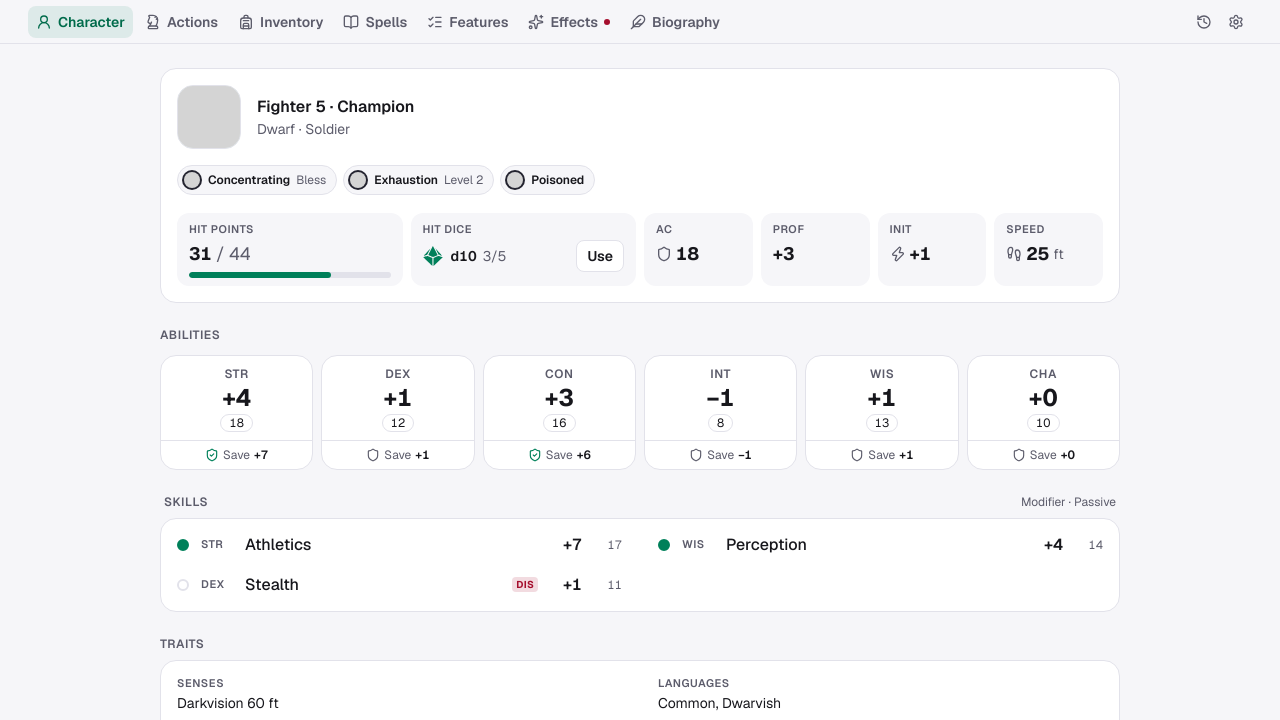
Test: components/character-sheet/item-menu, Remove…, from module 0.33.0 › lets a plain row take focus, and the keyboard open its menu below it
Click the tab "Inventory": x=281, y=22 [230,6,331,38]
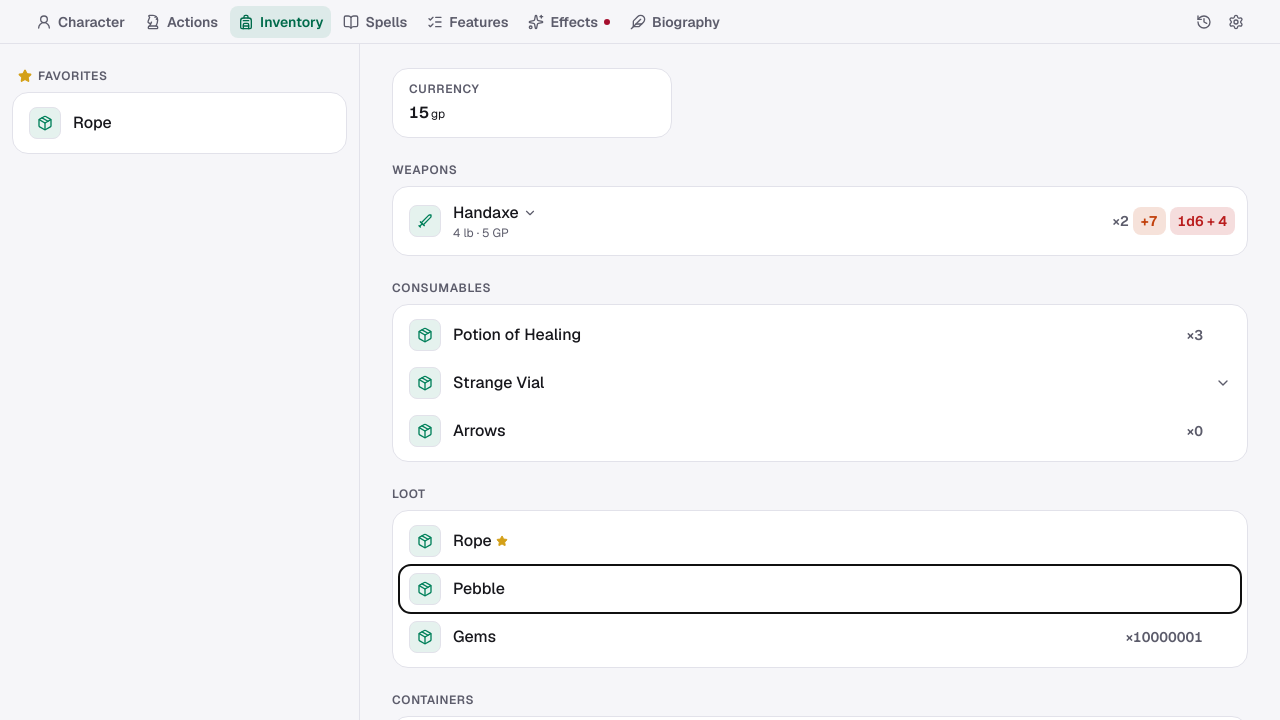
Right-click the element showing "Pebble": x=457, y=589 [409,573,505,605]
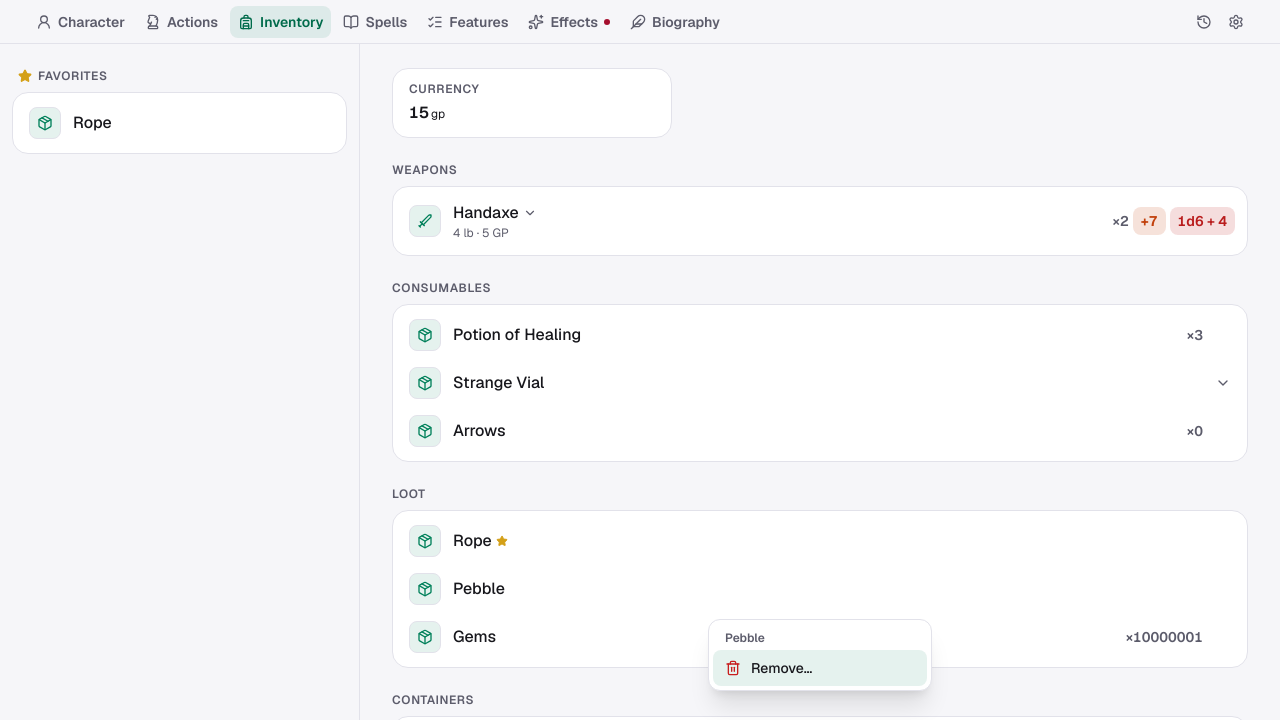
Press Escape
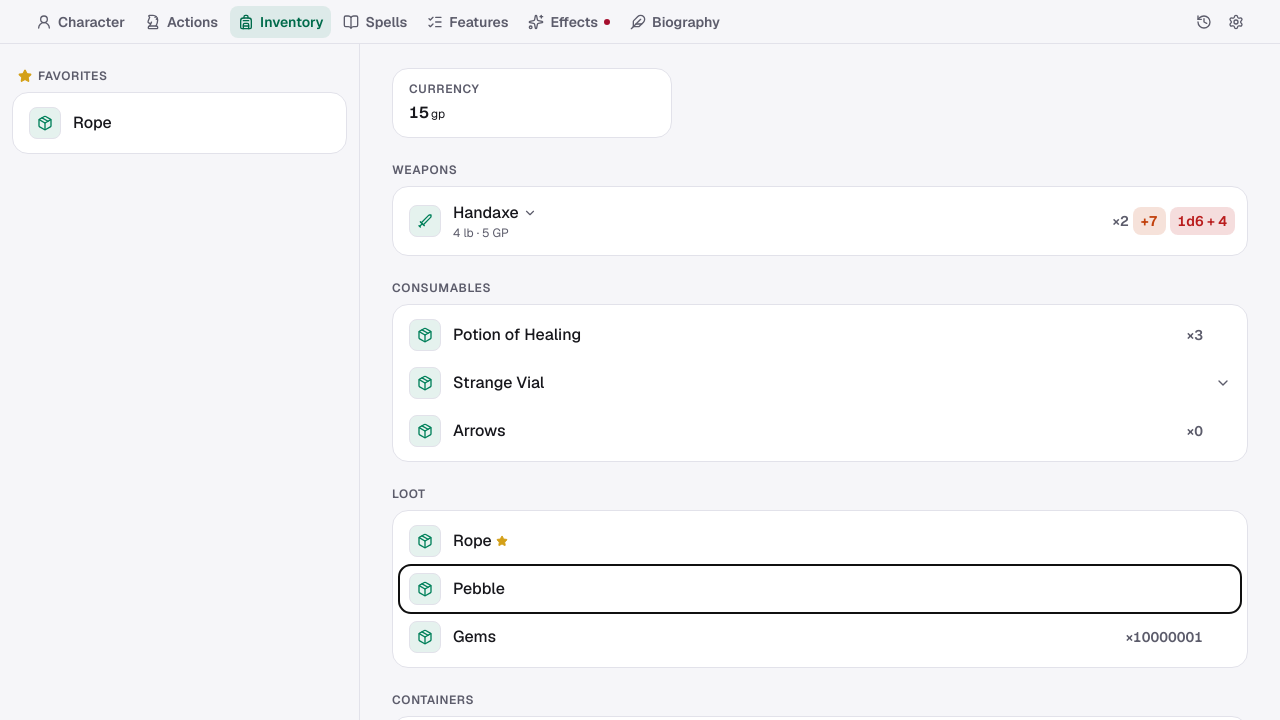
Check: the menu is gone
